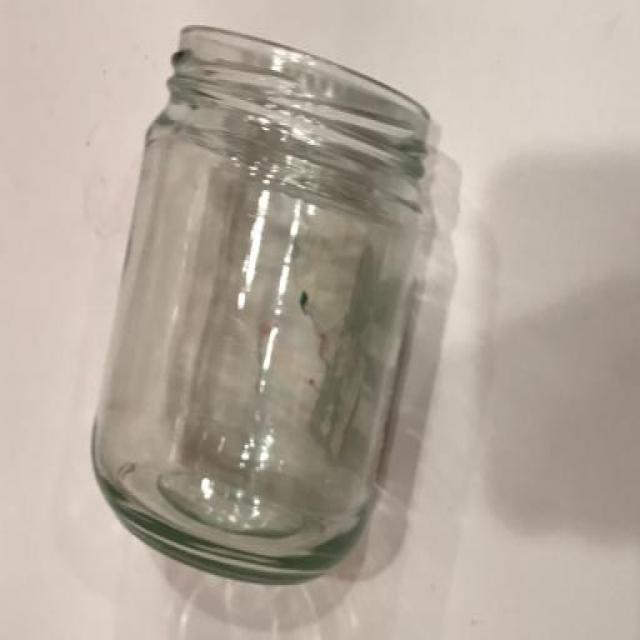glass: (96, 21, 462, 612)
